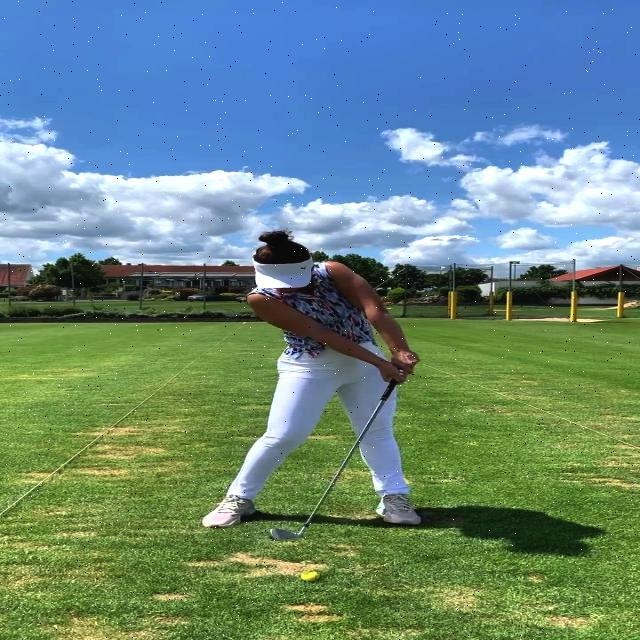golf ball: (300, 570, 320, 582)
golf club-handle: (269, 379, 395, 541)
golf club-head: (270, 529, 299, 541)
